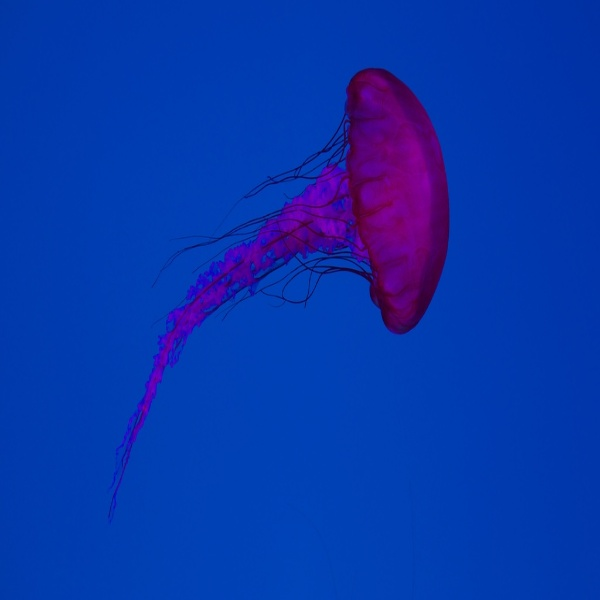Jellyfish: (107, 65, 449, 522)
